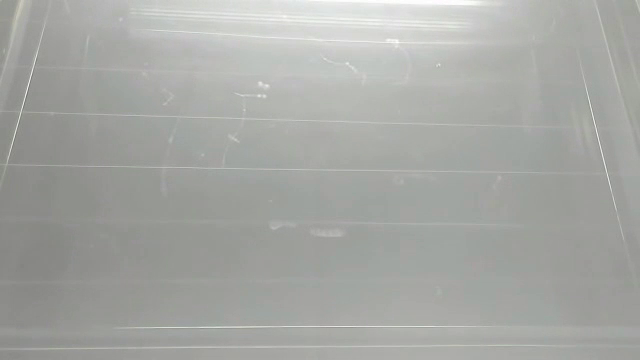alpha: (267, 217, 348, 241)
